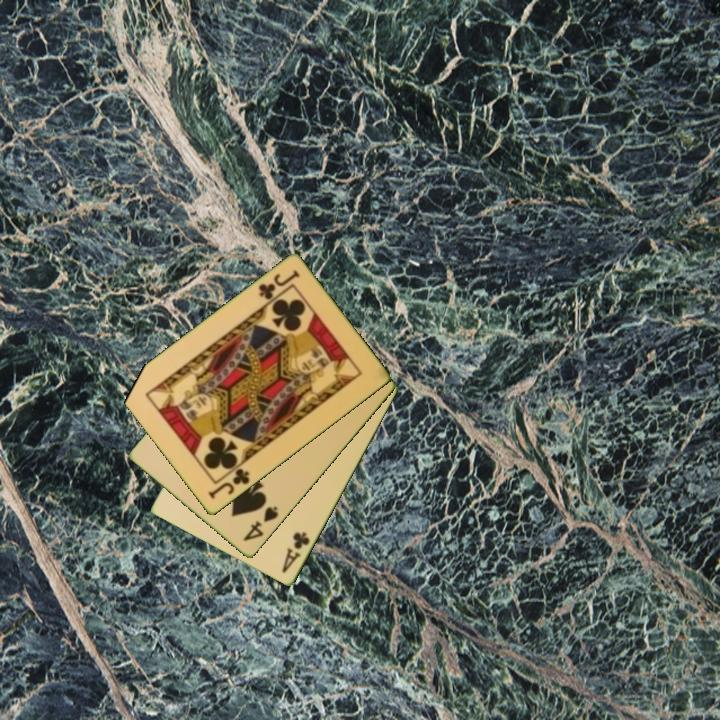4s: (240, 503, 281, 545)
Ac: (278, 529, 313, 576)
Jc: (205, 465, 252, 502), (255, 266, 302, 303)
